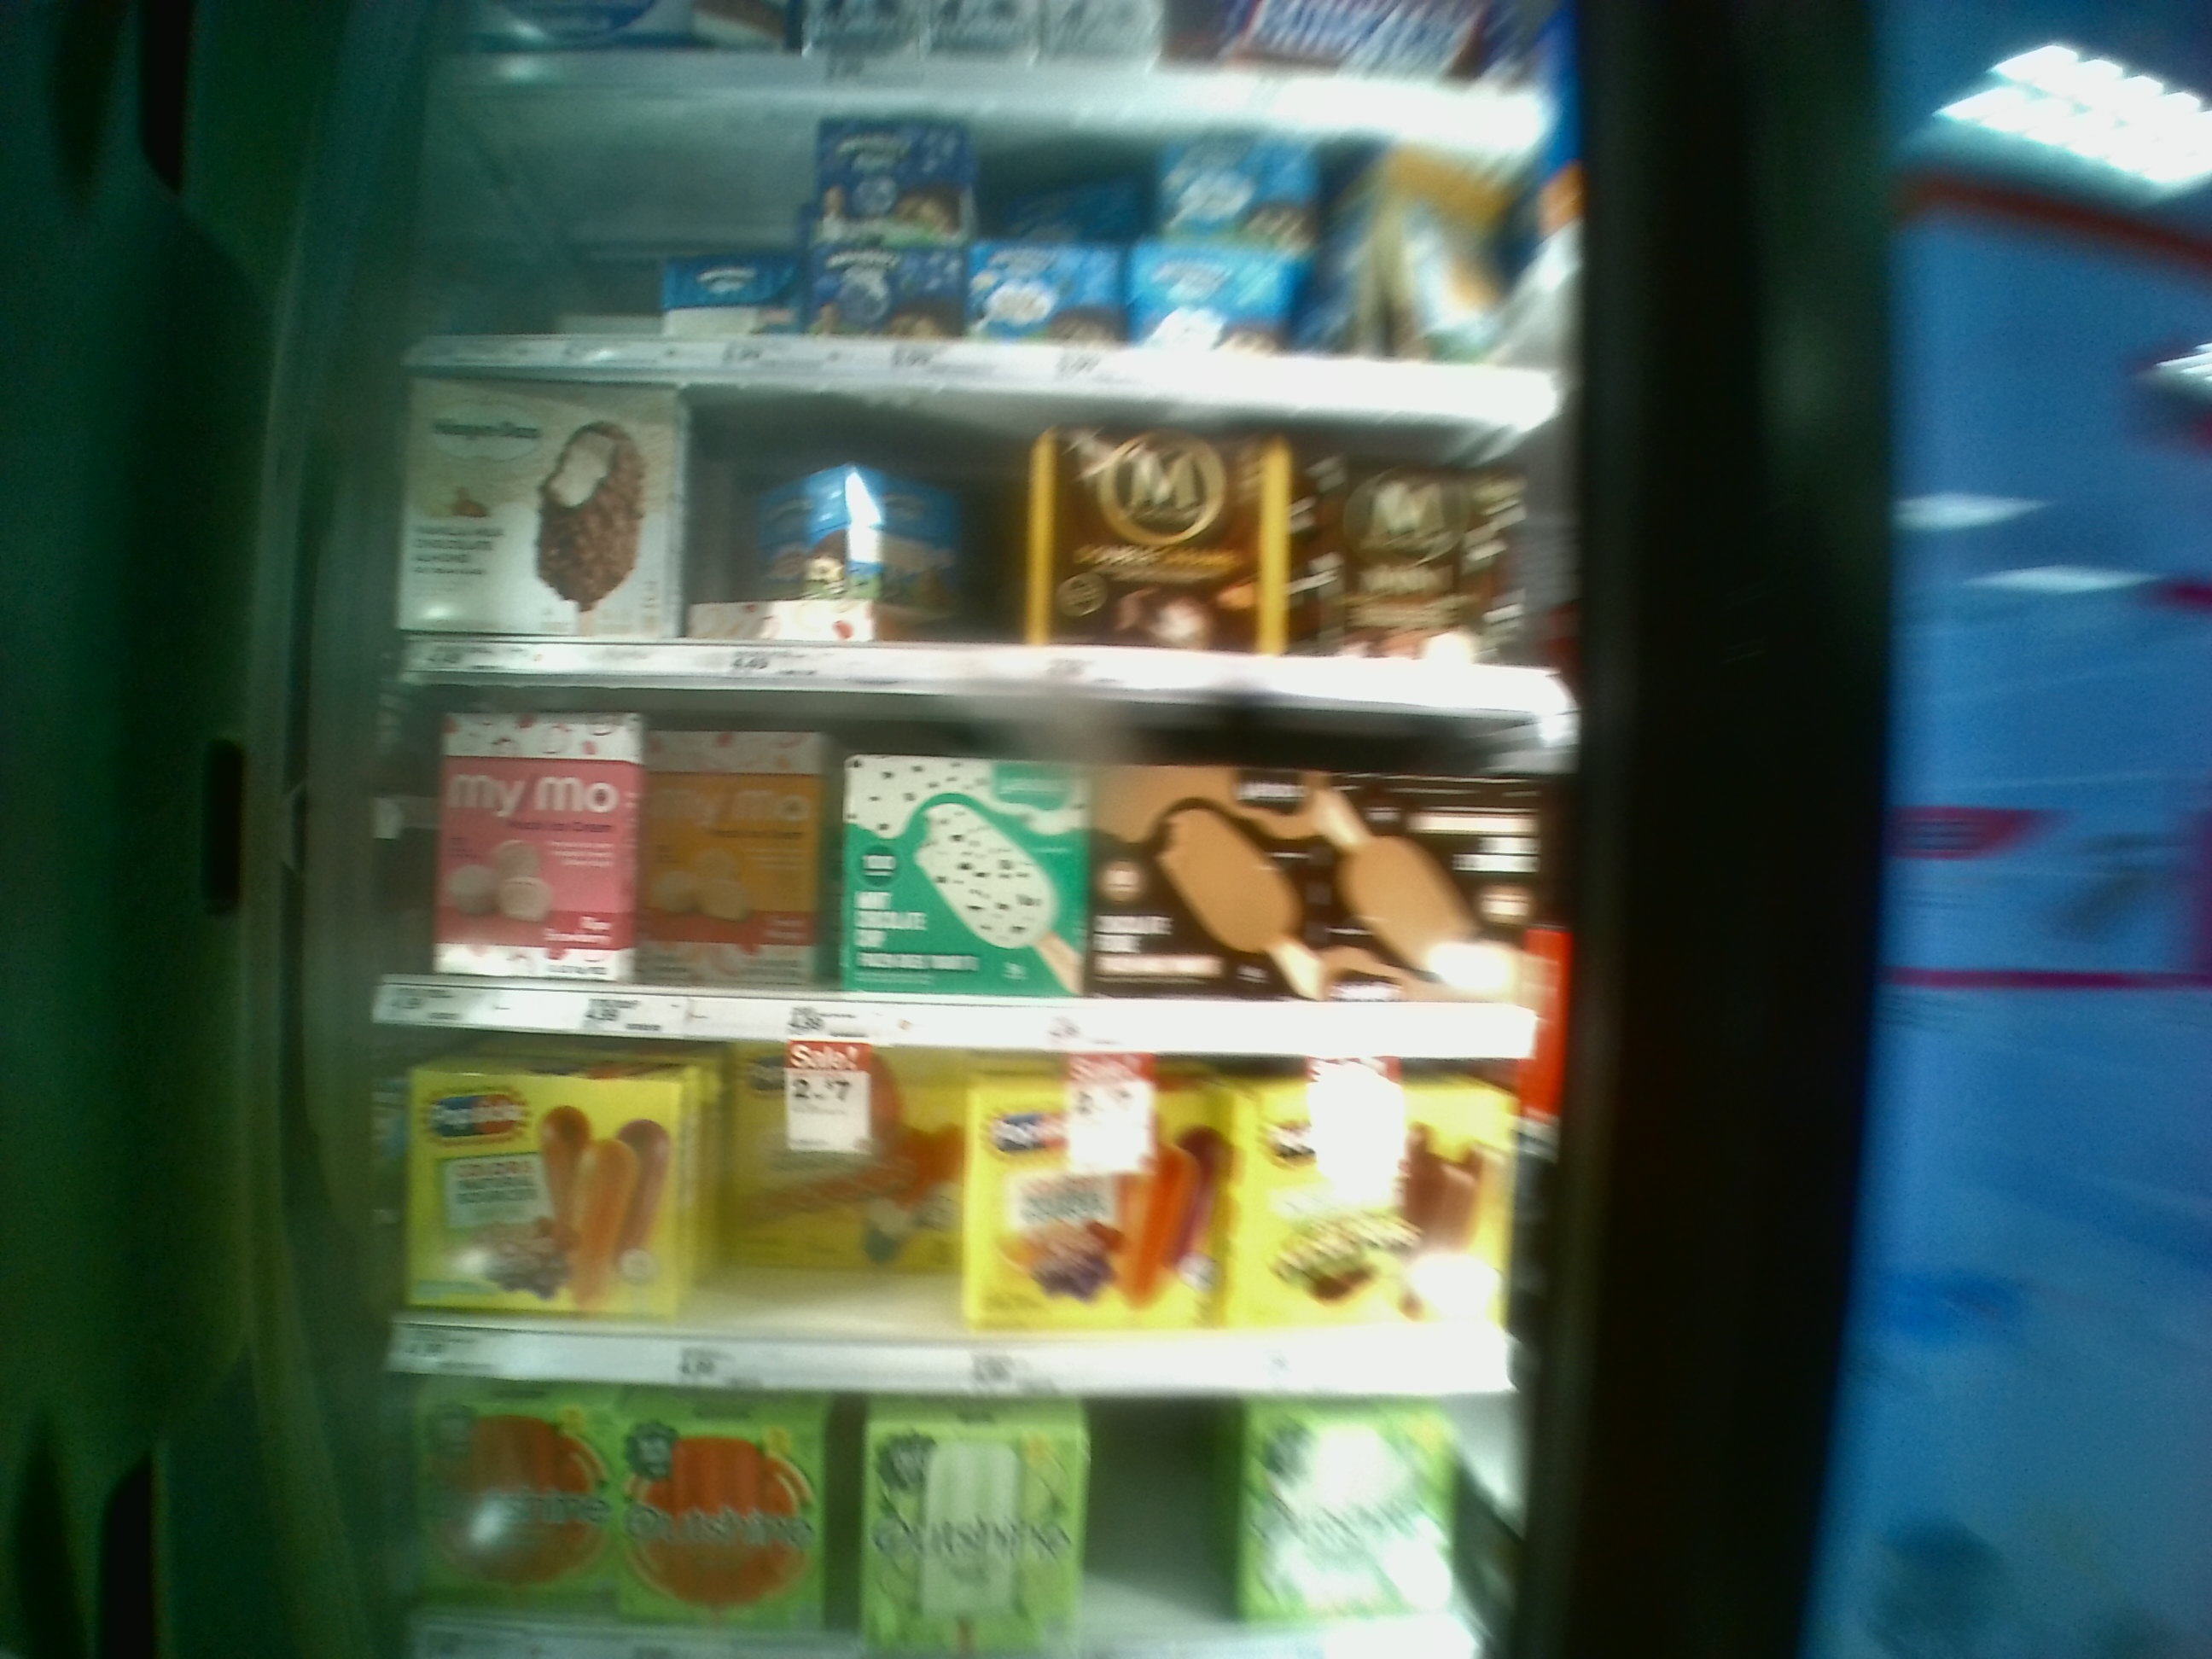ice-cream-shelf: (369, 1028, 1576, 1399), (376, 697, 1583, 1049), (399, 376, 1575, 697), (406, 84, 1569, 404)
